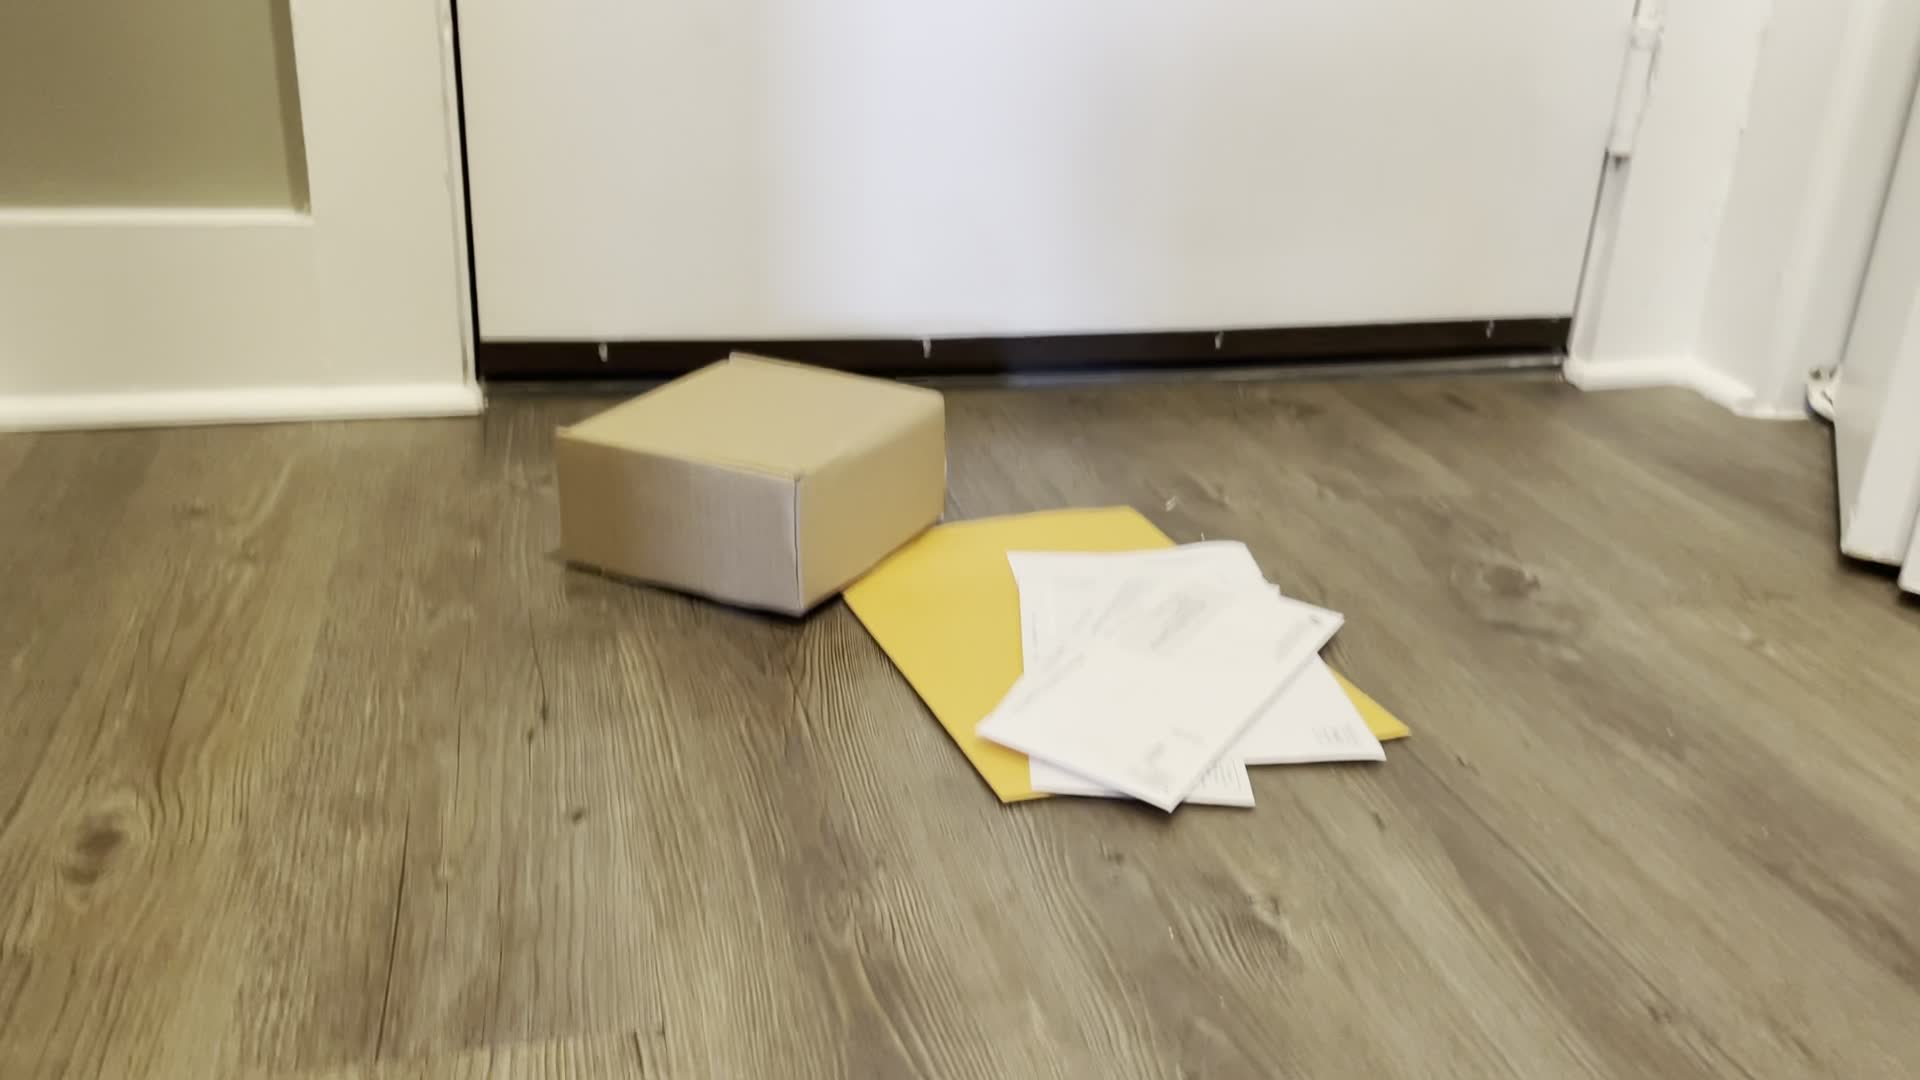box: (553, 349, 963, 612)
envelope: (827, 493, 1420, 815), (980, 558, 1361, 800)
